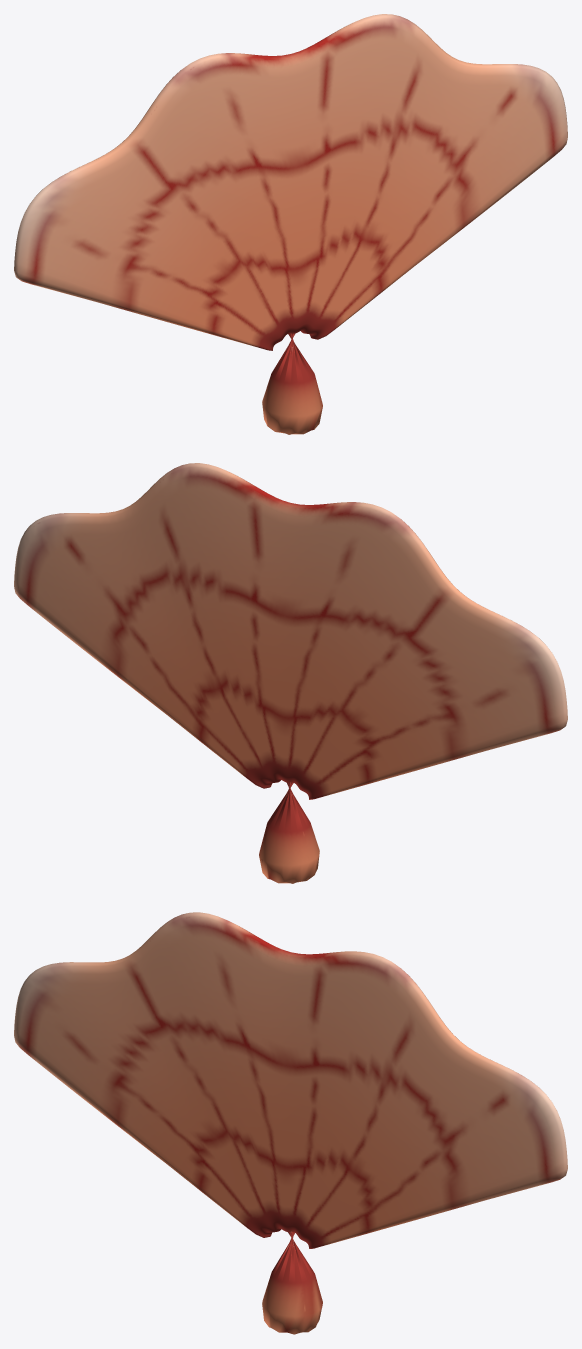
File: coral_fan.glb
3 renders of one model, top to bottom at view 1: azimuth 30°, elevation 25°; view 2: azimuth 150°, elevation 25°; view 3: azimuth 330°, elevation 25°, orthographic.
Parts seen in each view (by area): view 1: CoralFan; view 2: CoralFan; view 3: CoralFan.
Part boxes in pixels (x1,y1,x2,y2): CoralFan: (14, 14, 567, 434); CoralFan: (14, 463, 567, 883); CoralFan: (14, 912, 567, 1334).
Bounding box in the file's own units: 1.68 × 1.16 × 0.1603.
Materials: 1 (1 with a texture image).
